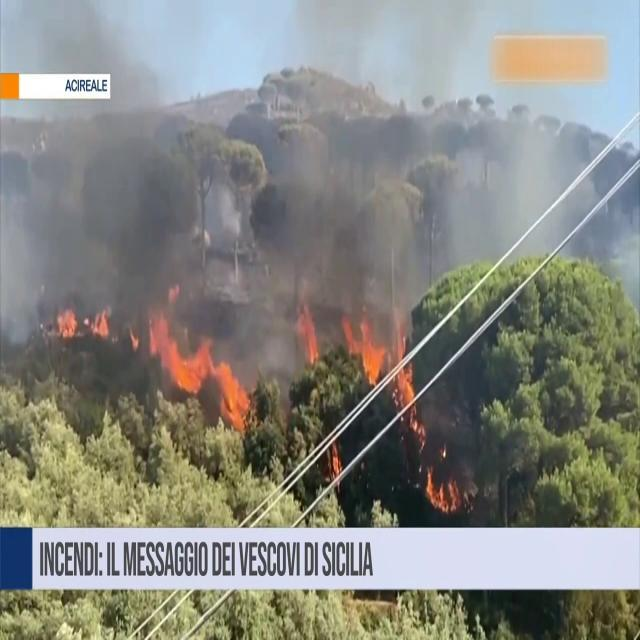Fire: (148, 306, 254, 435), (342, 304, 418, 418), (422, 444, 466, 520), (52, 294, 114, 347), (292, 292, 322, 378)
Smoke: (0, 0, 452, 395)
